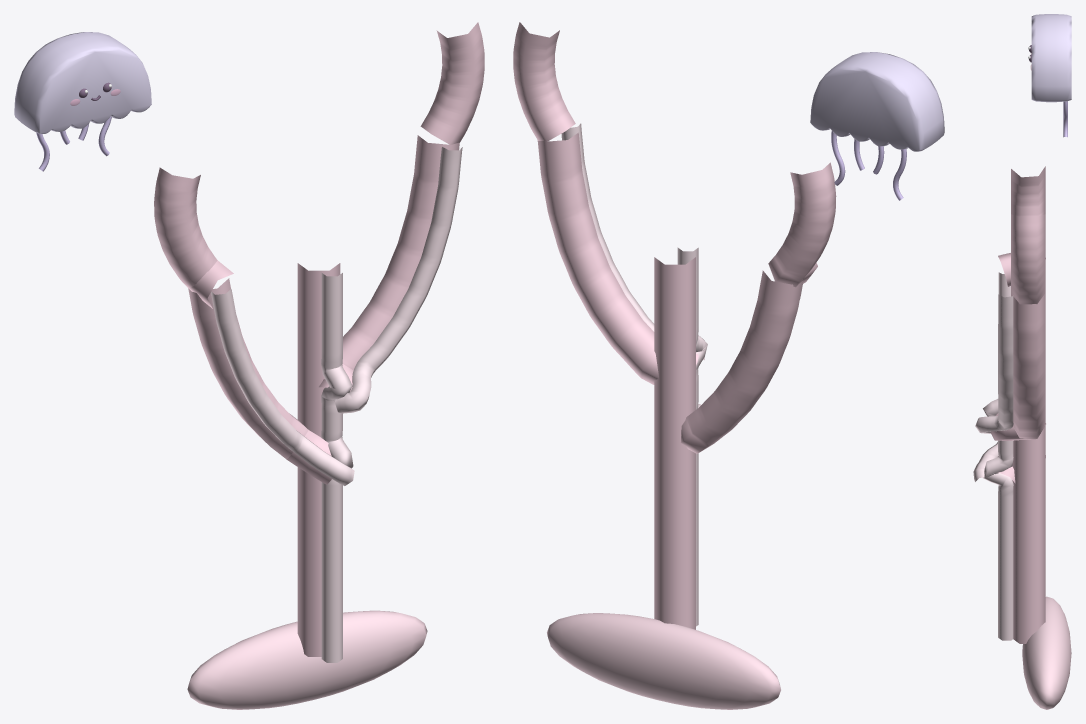
The model's file is decor_3_candy.glb.
3 views of the same model, side by side, from view 1: azimuth 30°, elevation 25°; view 2: azimuth 150°, elevation 25°; view 3: azimuth 270°, elevation 25° (orthographic). The views are drawn at different scales.
Parts seen in each view (by area): view 1: decor_3_candy; view 2: decor_3_candy; view 3: decor_3_candy.
Part boxes in pixels (left/top/right/bottom): decor_3_candy: left=14, top=22, right=484, bottom=709; decor_3_candy: left=513, top=22, right=944, bottom=709; decor_3_candy: left=973, top=14, right=1071, bottom=709.
Size of the model in its own units: 9.56 by 14.7 by 2.27.
